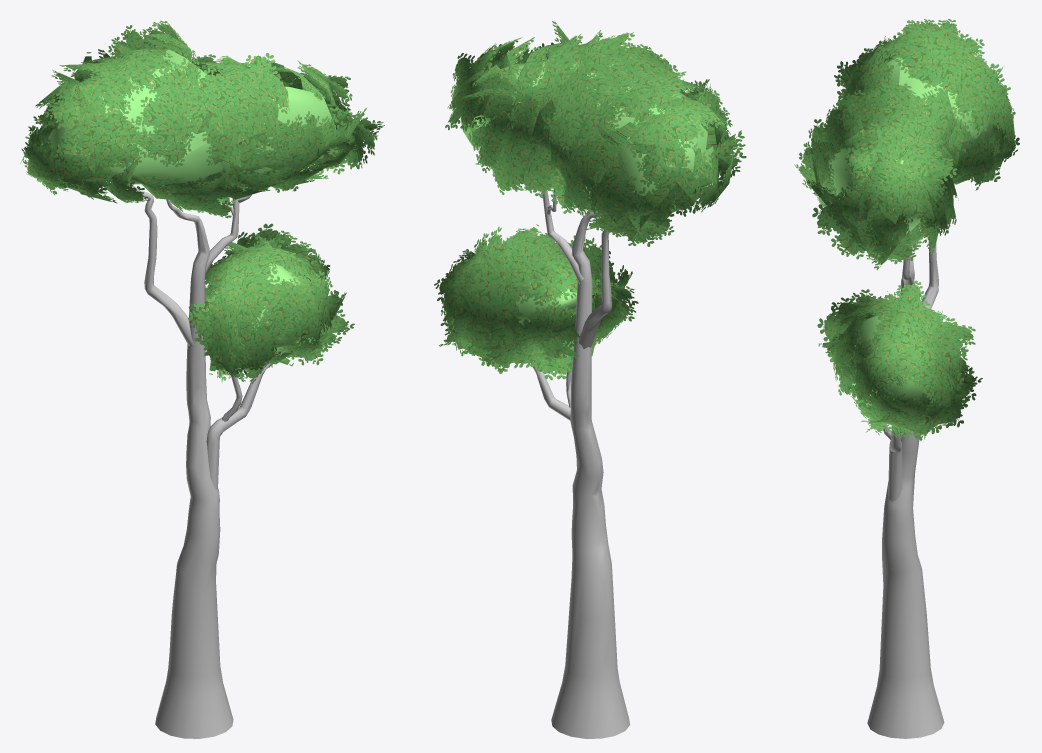
Rendered from SM_Navitree_A.fbx.
3 views of the same model, side by side, from view 1: azimuth 30°, elevation 25°; view 2: azimuth 150°, elevation 25°; view 3: azimuth 270°, elevation 25° (orthographic). The views are drawn at different scales.
Visible parts, largest first — view 1: SM_Navitree_A; view 2: SM_Navitree_A; view 3: SM_Navitree_A.
Part boxes in pixels (<box>): SM_Navitree_A: <box>20,20,384,738</box>; SM_Navitree_A: <box>434,21,746,738</box>; SM_Navitree_A: <box>794,19,1019,738</box>.
Size of the model in its own units: 1953 by 4087 by 1297.
